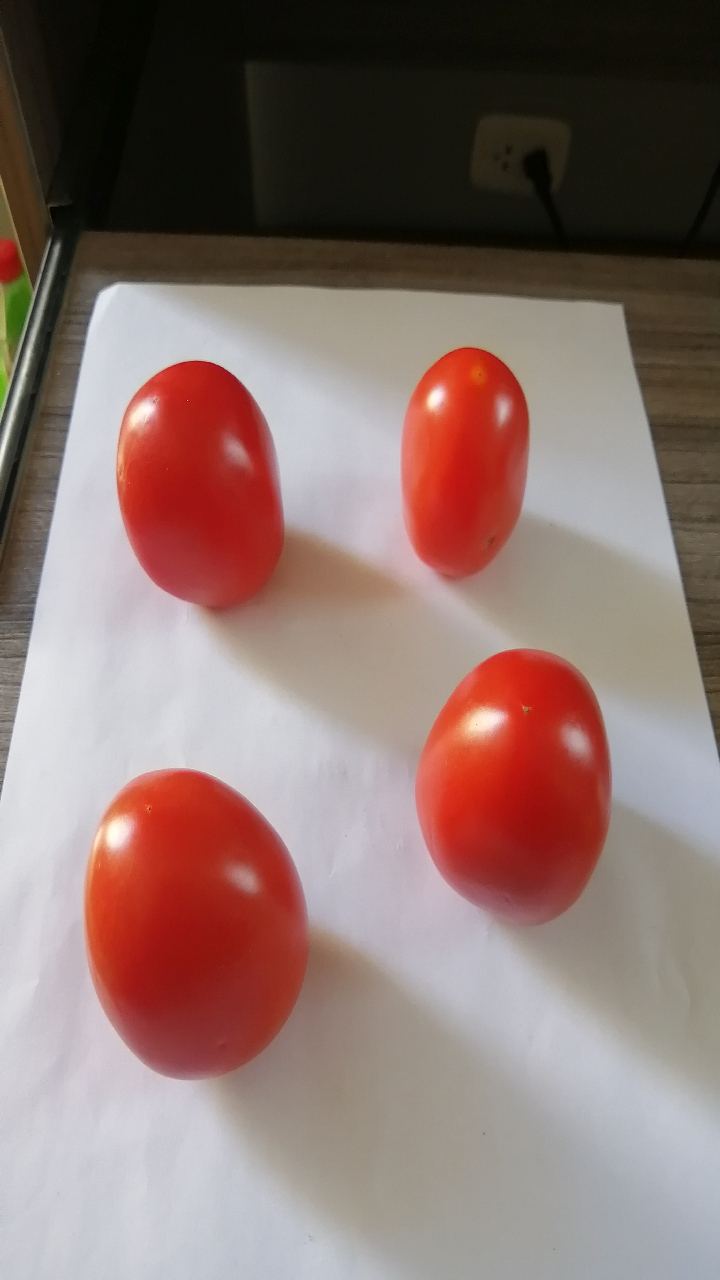tomateRojo: (54, 745, 326, 1105), (377, 611, 631, 955), (103, 346, 301, 631), (377, 322, 551, 592)
